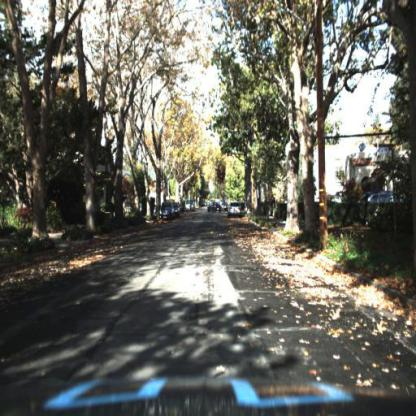car: (360, 185, 400, 208), (360, 186, 398, 209), (156, 201, 176, 224), (228, 199, 244, 220), (207, 200, 222, 213), (174, 200, 182, 221)
